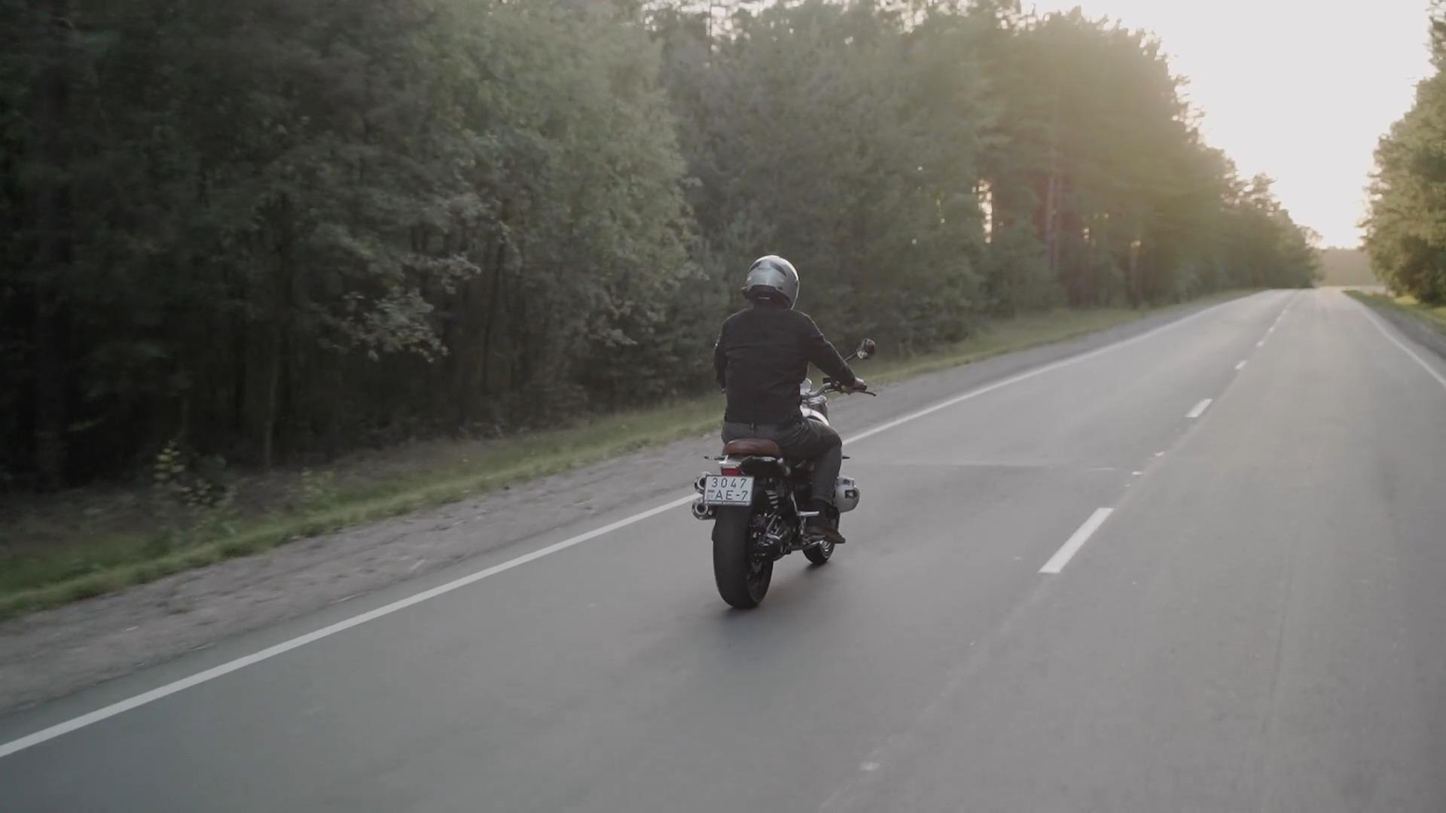driver: (692, 255, 878, 609)
helmet: (742, 254, 800, 311)
